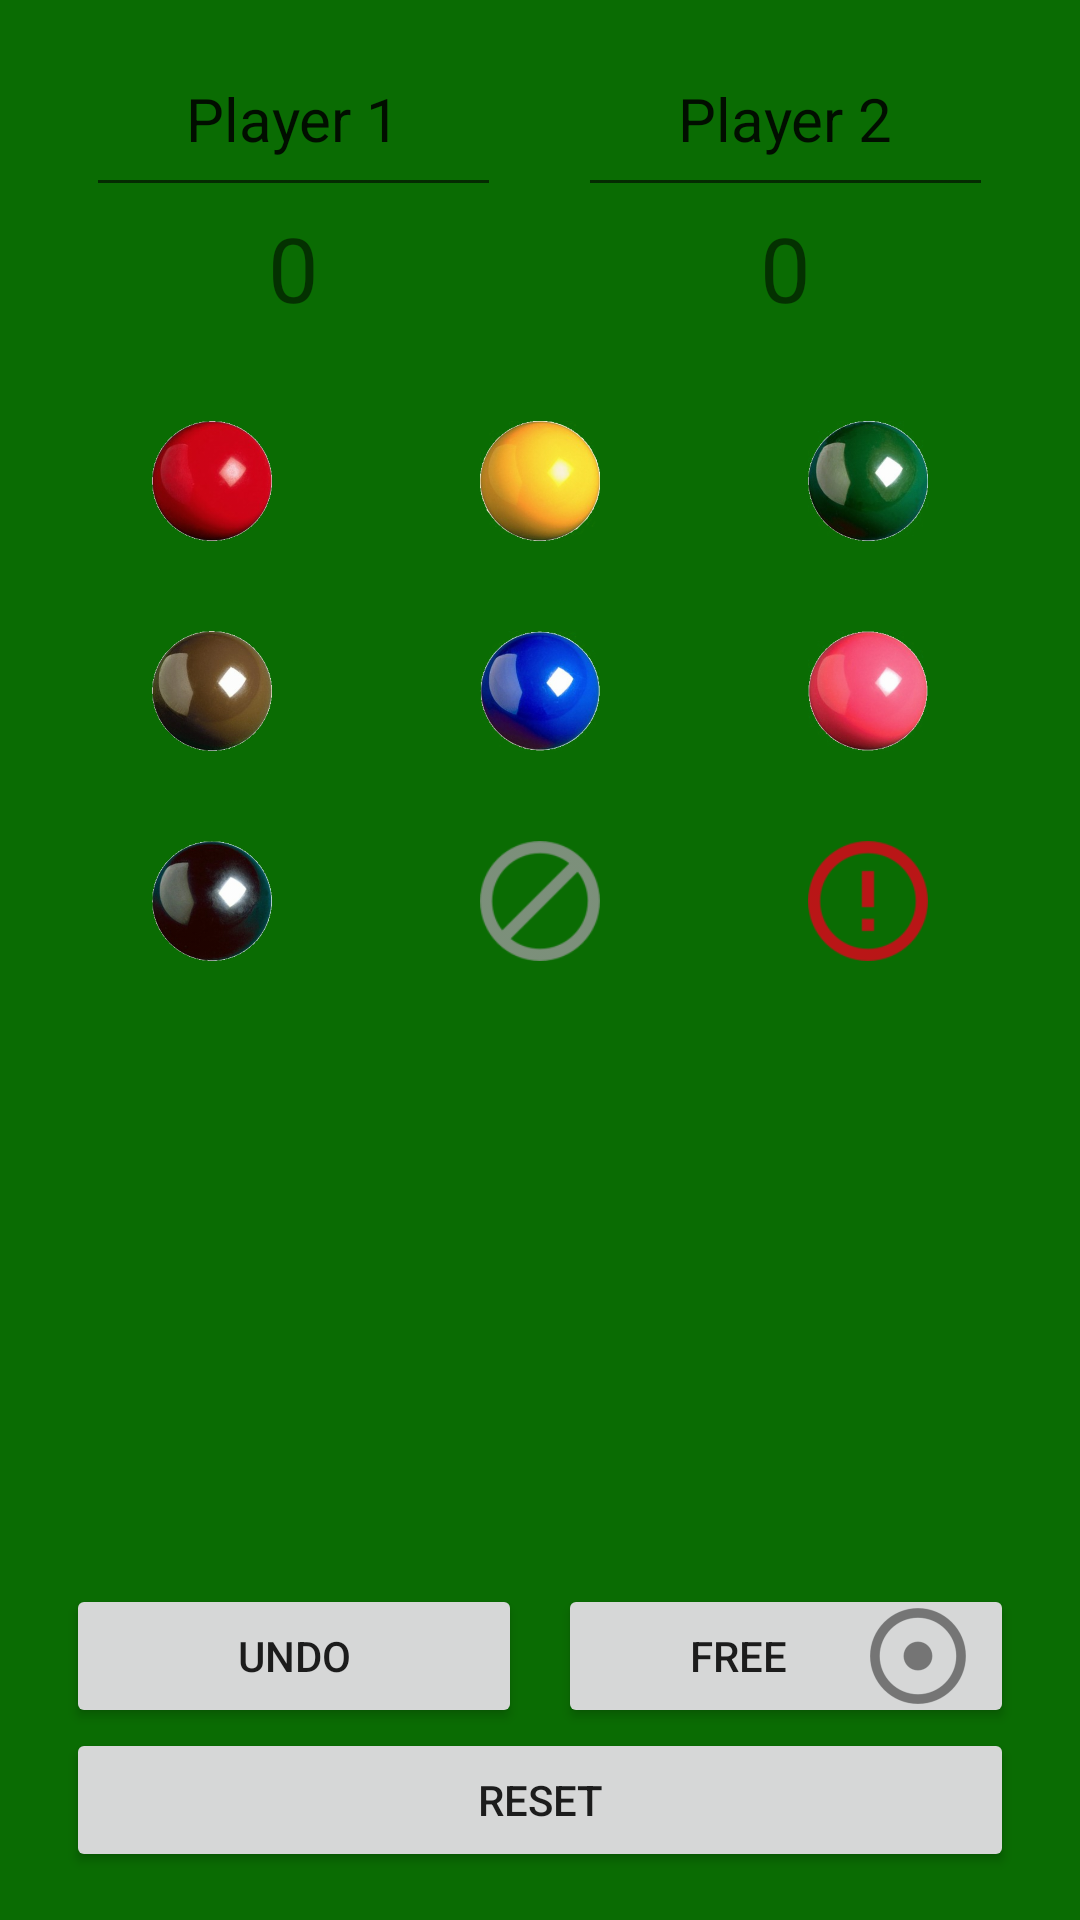

Icon bounding boxes for this 1080 x 1920 phone screenshot, format [x1, y1, x2, y2]:
Black: [152, 841, 272, 961]
Blue: [480, 631, 600, 751]
Brown: [152, 631, 272, 751]
Foul: [808, 841, 928, 961]
Green: [808, 421, 928, 541]
Miss: [480, 841, 600, 961]
Pink: [808, 631, 928, 751]
Red: [152, 421, 272, 541]
Yellow: [480, 421, 600, 541]
